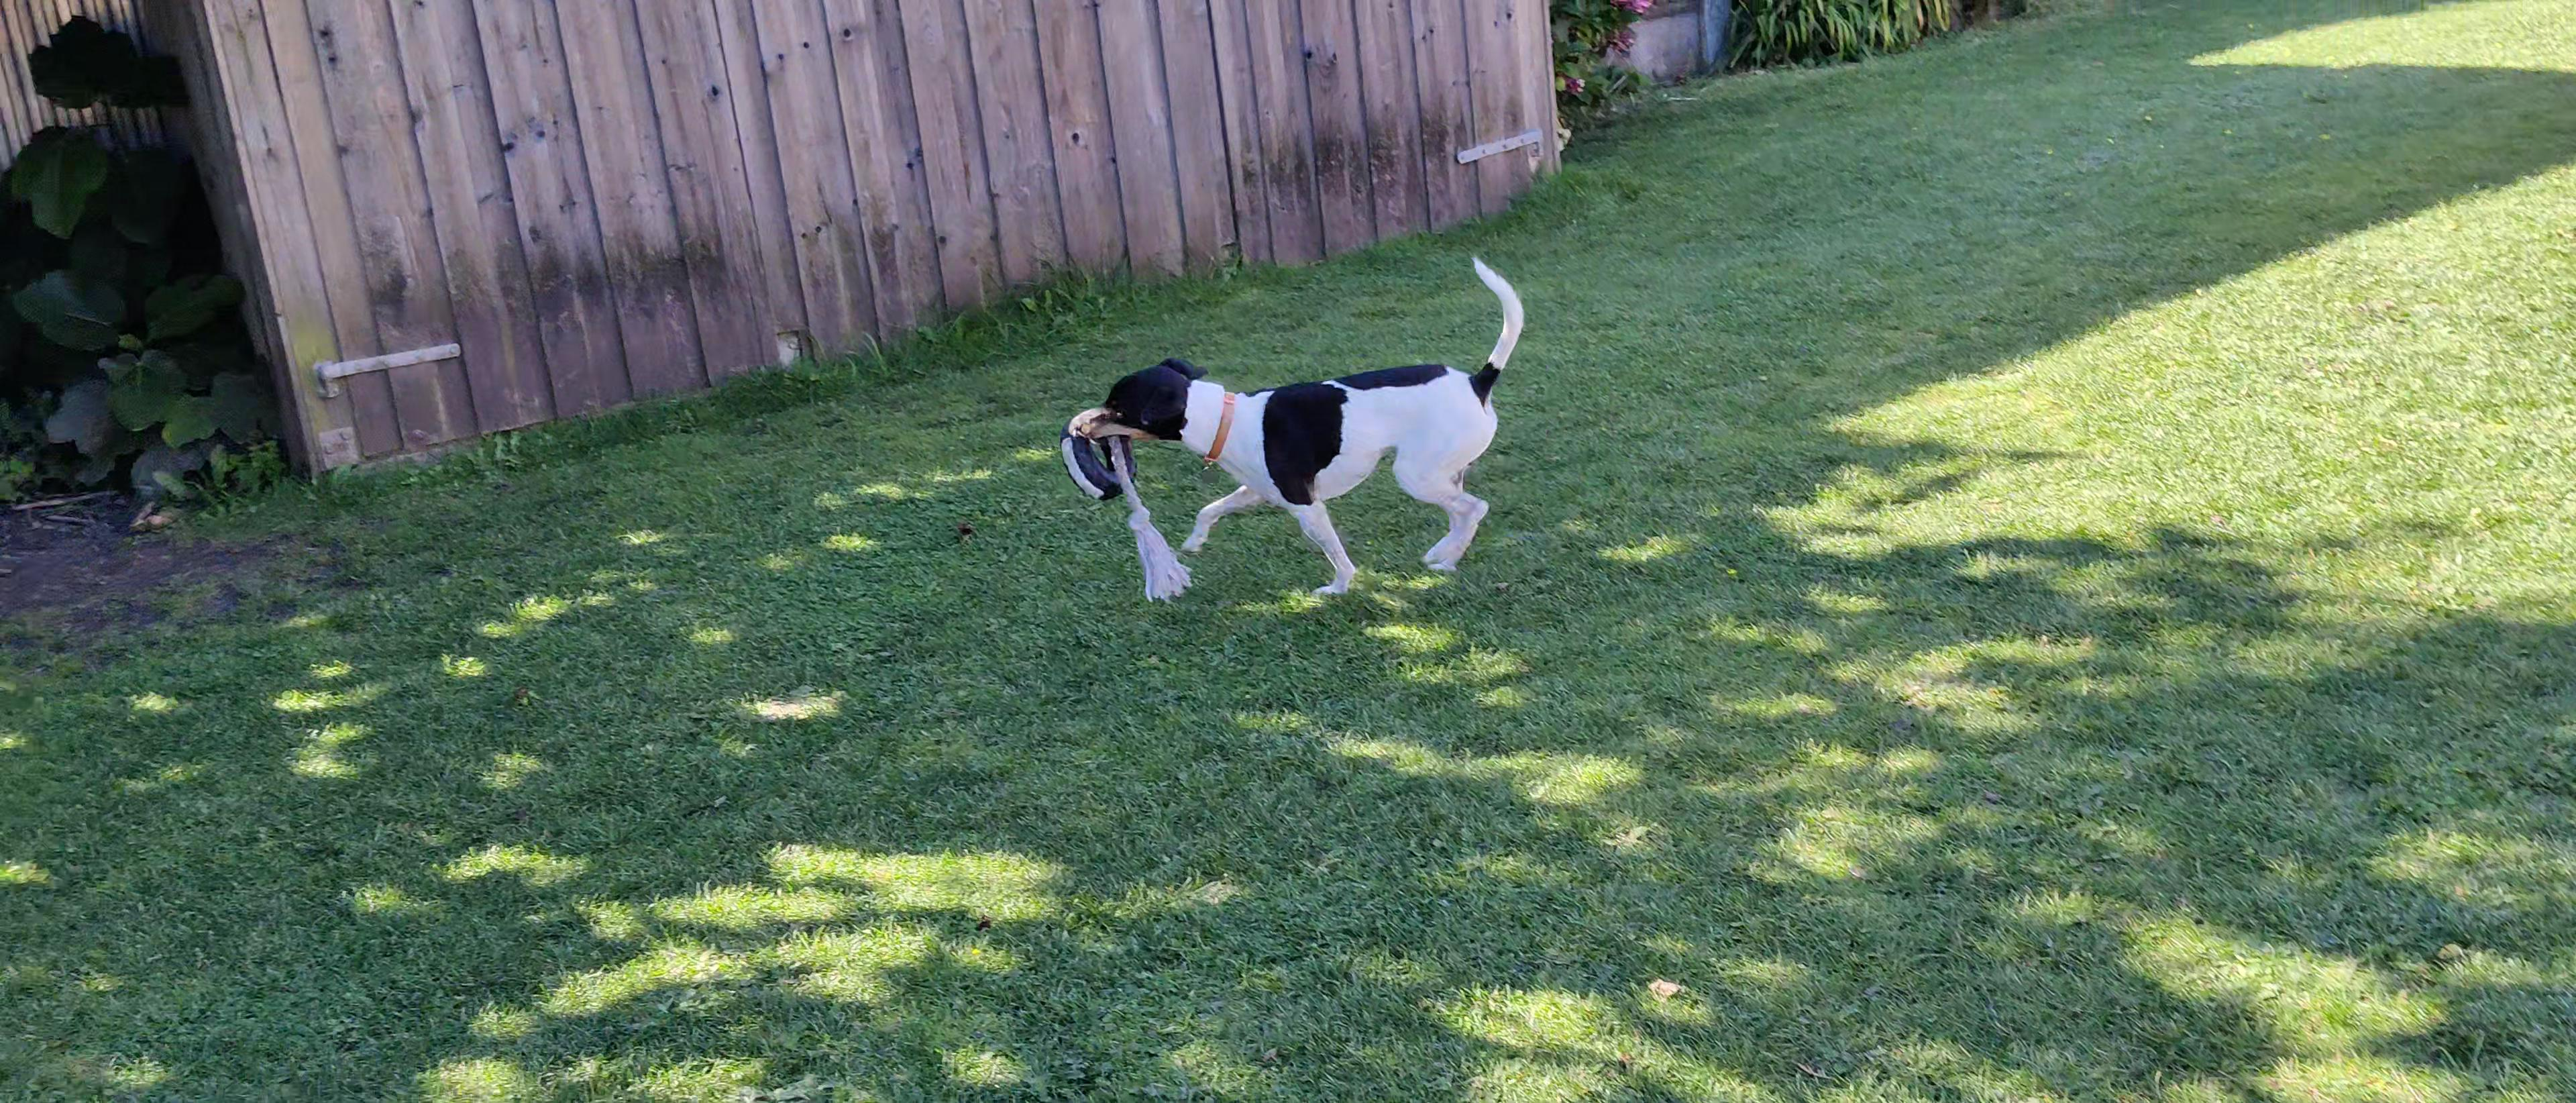Dog: (1058, 243, 1533, 639)
